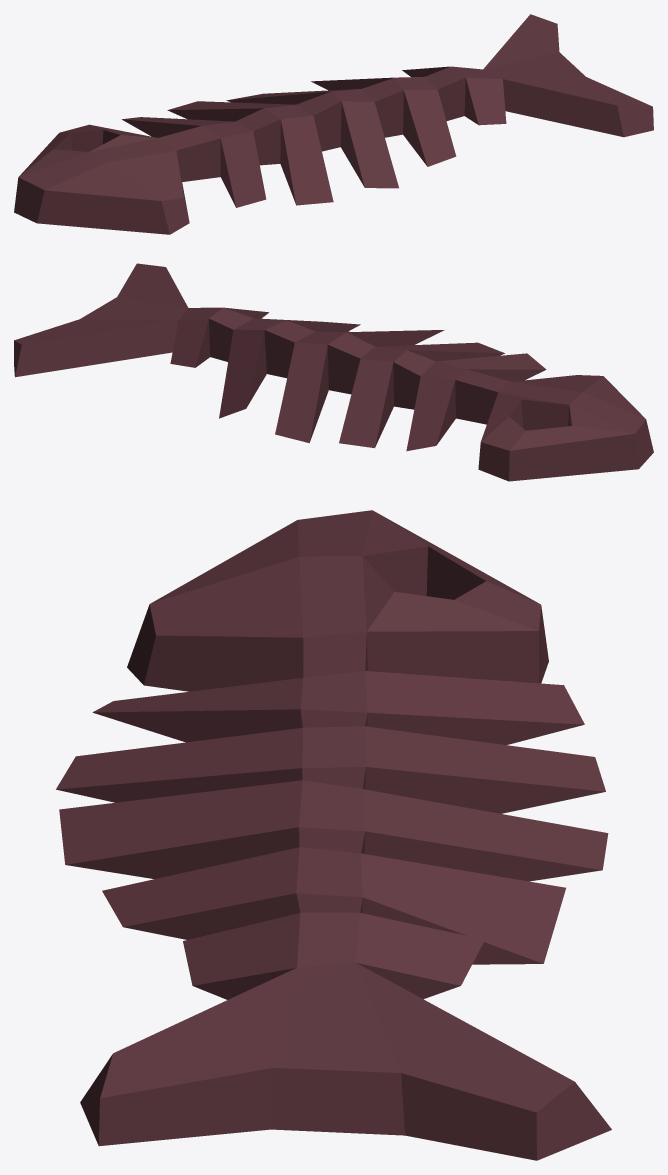
Rendered from fish-bone.fbx.
3 renders of one model, top to bottom at view 1: azimuth 30°, elevation 25°; view 2: azimuth 150°, elevation 25°; view 3: azimuth 270°, elevation 25°, orthographic. The views are drawn at different scales.
Visible parts, largest first — view 1: fish-bone; view 2: fish-bone; view 3: fish-bone.
Part boxes in pixels (x1=…): fish-bone: x1=14, y1=14, x2=653, y2=234; fish-bone: x1=14, y1=263, x2=653, y2=481; fish-bone: x1=56, y1=510, x2=611, y2=1160.
Size of the model in its own units: 0.293 by 0.03 by 0.1209.
